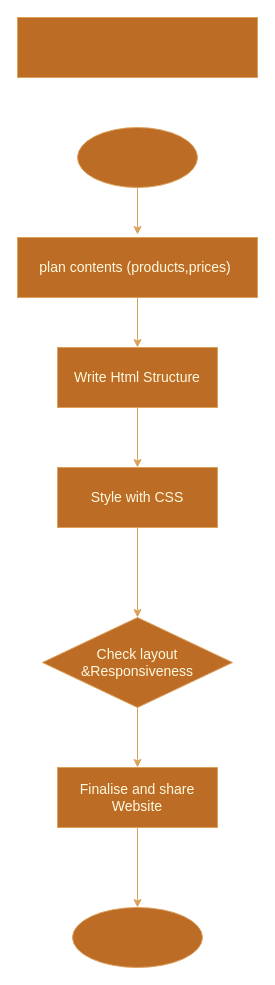
This 275x985 diagram has some shape labels left out. Each missing label, with the centre of its shape:
End: the point at 137,937
Start: the point at 137,157
The Chocolate Factory: the point at 137,47
